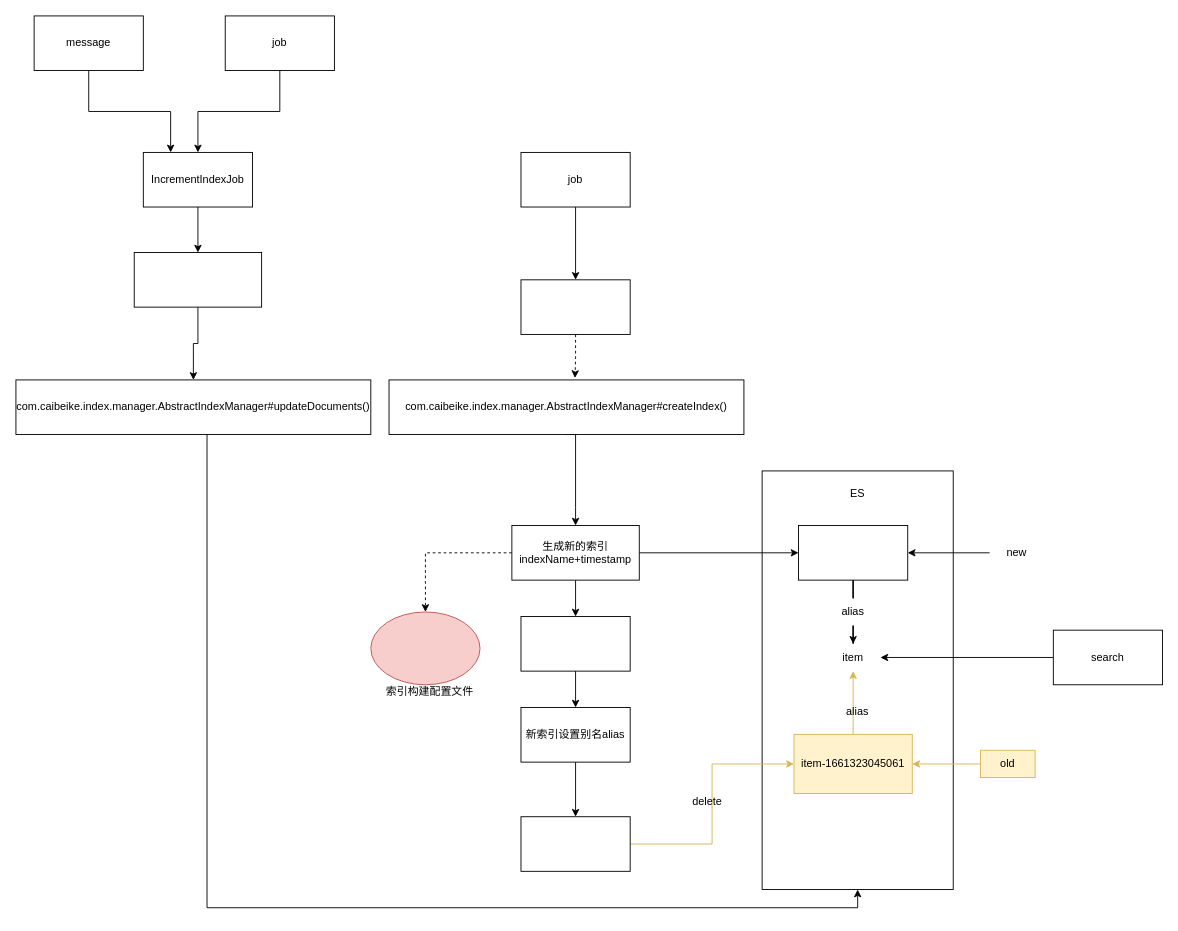
This 1178x931 diagram has some shape labels left out. Each missing label, with the box of its shape:
IndexCreateJob: (520, 279, 630, 334)
IndexMessageManager: (133, 252, 262, 307)
item-1661360450612: (798, 525, 908, 580)
mappingName.json: (370, 611, 480, 685)
删除旧索引: (520, 816, 630, 871)
查询数据导入新索引: (520, 616, 630, 671)
